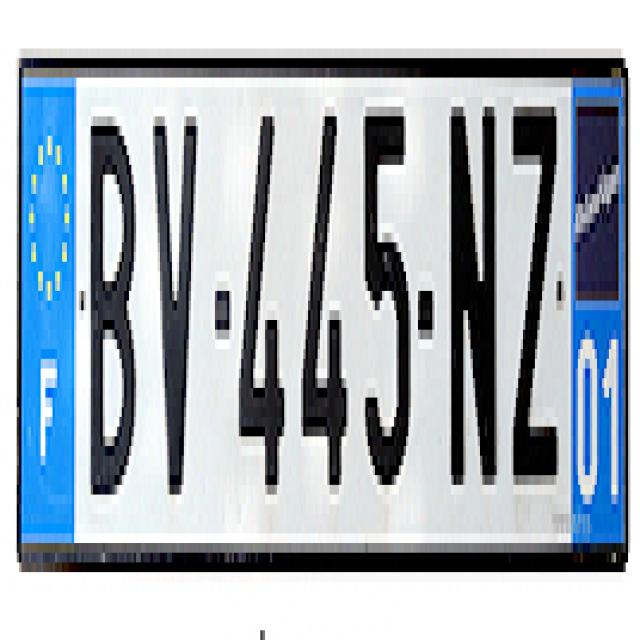EU: (19, 60, 624, 576)
France: (19, 56, 78, 562)
